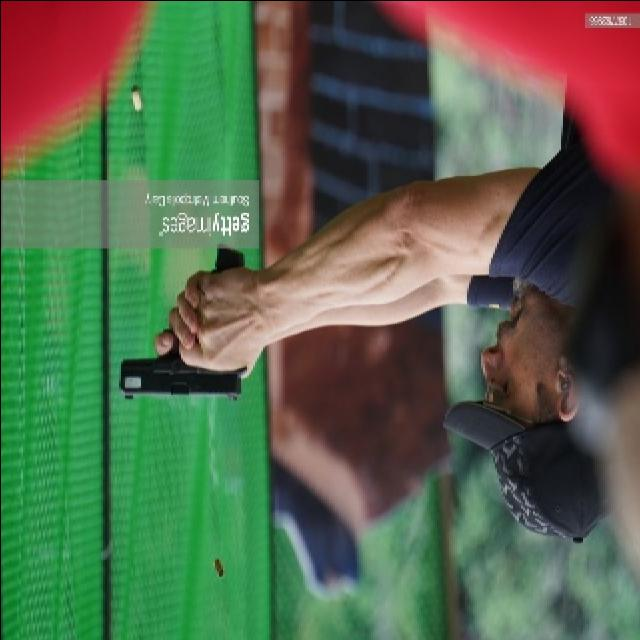handgun: (117, 245, 257, 407)
